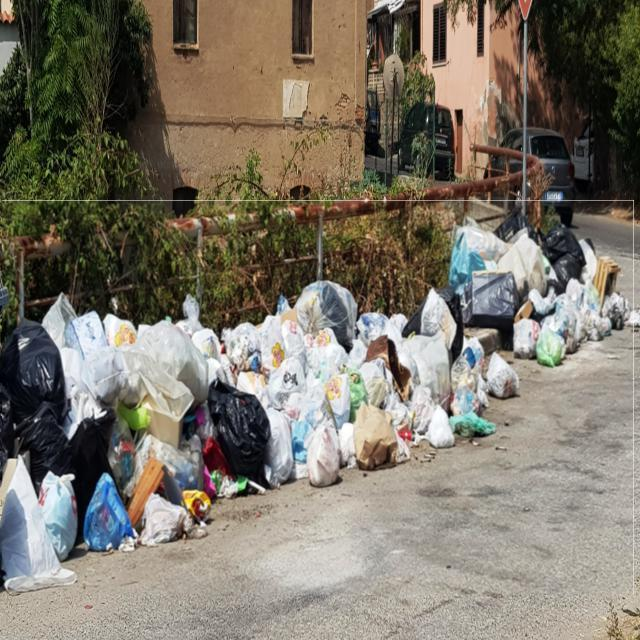Trashbag: (208, 384, 280, 480), (8, 326, 72, 398), (14, 409, 66, 474), (553, 251, 582, 286), (554, 222, 584, 255)
